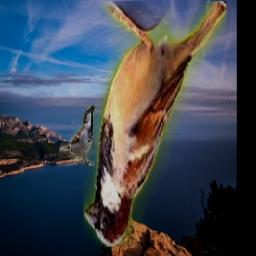Sparrow: (82, 1, 225, 247), (58, 105, 94, 167)
